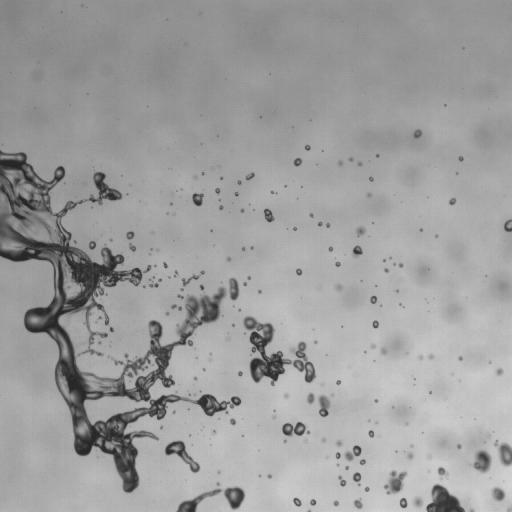droplet: (243, 316, 315, 385), (426, 483, 465, 511), (384, 470, 407, 494), (493, 439, 511, 466), (471, 449, 491, 473), (317, 395, 330, 417), (344, 445, 361, 461), (491, 487, 505, 501), (192, 193, 204, 206), (437, 466, 448, 478), (412, 496, 423, 508), (264, 208, 274, 221), (352, 245, 362, 257), (306, 392, 315, 404), (353, 472, 361, 485), (353, 498, 362, 509), (356, 226, 365, 236), (149, 277, 158, 287), (399, 497, 407, 508), (504, 219, 511, 231), (338, 476, 346, 486), (413, 129, 421, 138), (293, 158, 302, 166), (245, 172, 254, 180), (126, 231, 134, 239), (293, 498, 301, 506), (370, 296, 377, 303), (496, 368, 503, 375), (406, 452, 413, 459), (89, 241, 95, 249), (372, 320, 378, 328), (129, 244, 135, 251), (296, 268, 302, 275), (335, 284, 342, 290), (380, 347, 386, 354), (449, 198, 455, 204), (336, 440, 342, 446), (310, 499, 316, 505), (333, 500, 339, 506), (230, 418, 235, 425), (368, 430, 373, 437), (215, 188, 220, 194), (360, 459, 365, 465), (506, 505, 511, 511), (336, 452, 340, 459), (467, 507, 474, 511), (305, 145, 310, 150), (458, 156, 463, 161), (335, 261, 340, 266), (428, 354, 433, 359), (427, 454, 432, 459), (364, 486, 369, 491), (338, 160, 342, 165), (398, 263, 403, 267), (109, 327, 113, 332), (371, 344, 375, 349), (418, 355, 423, 359), (238, 371, 242, 376), (284, 393, 288, 398), (226, 335, 229, 341), (349, 157, 353, 161), (369, 177, 373, 181), (237, 180, 241, 184), (367, 193, 371, 197), (219, 205, 223, 209), (240, 208, 244, 212), (318, 222, 322, 226), (326, 223, 330, 227), (328, 247, 332, 251), (226, 257, 230, 261), (163, 263, 167, 267), (384, 268, 388, 272), (458, 356, 462, 360), (336, 380, 340, 384), (211, 430, 215, 434), (457, 444, 461, 448), (267, 474, 271, 478), (174, 271, 177, 276), (358, 162, 361, 166), (235, 192, 238, 196), (310, 213, 313, 217), (166, 311, 169, 315), (293, 227, 296, 230), (242, 247, 245, 250), (158, 278, 161, 281), (243, 282, 246, 285), (194, 377, 197, 380), (322, 438, 325, 441), (345, 466, 348, 469), (271, 191, 275, 193), (247, 276, 250, 278), (258, 290, 261, 292), (375, 399, 377, 402), (217, 471, 220, 473), (194, 176, 196, 178), (143, 285, 145, 287), (98, 341, 100, 343), (314, 341, 316, 343), (173, 411, 175, 413), (304, 439, 306, 441), (284, 440, 286, 442), (336, 463, 338, 465)
ligament: (0, 151, 240, 493), (176, 482, 245, 511), (165, 440, 199, 472), (181, 270, 204, 289), (282, 421, 310, 436), (307, 510, 311, 511)
